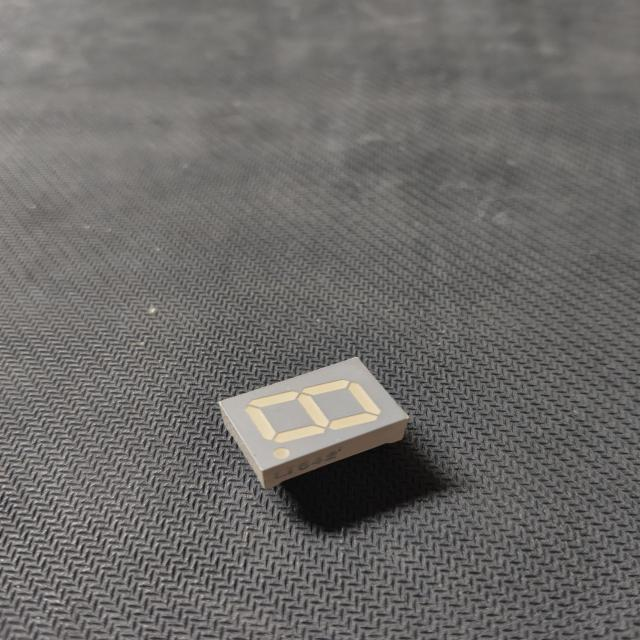sevensegment: (206, 332, 433, 497)
